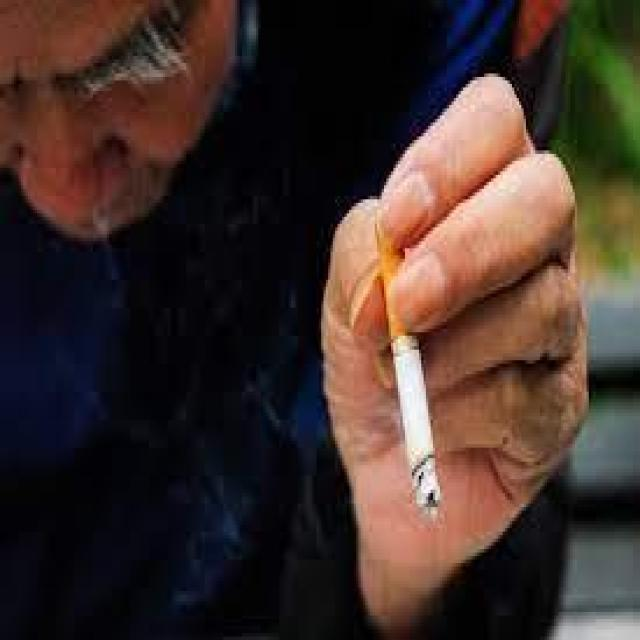cigarette: (372, 217, 442, 518)
